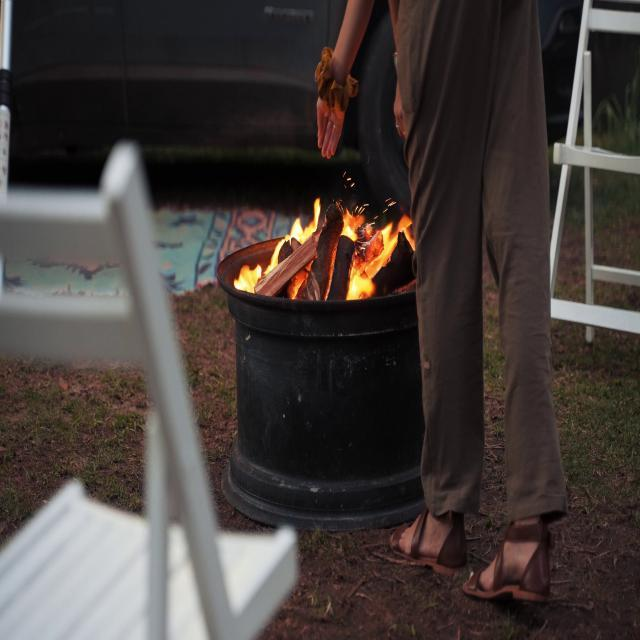Fire: (239, 192, 414, 295)
